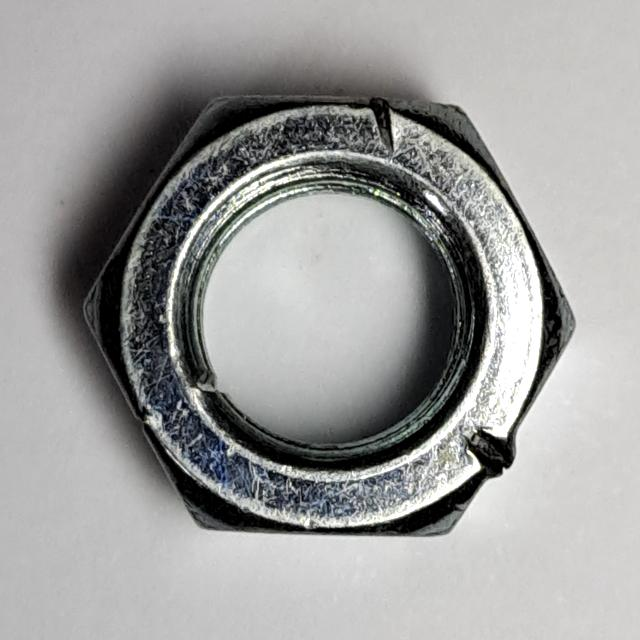Scratches: (69, 79, 594, 550)
